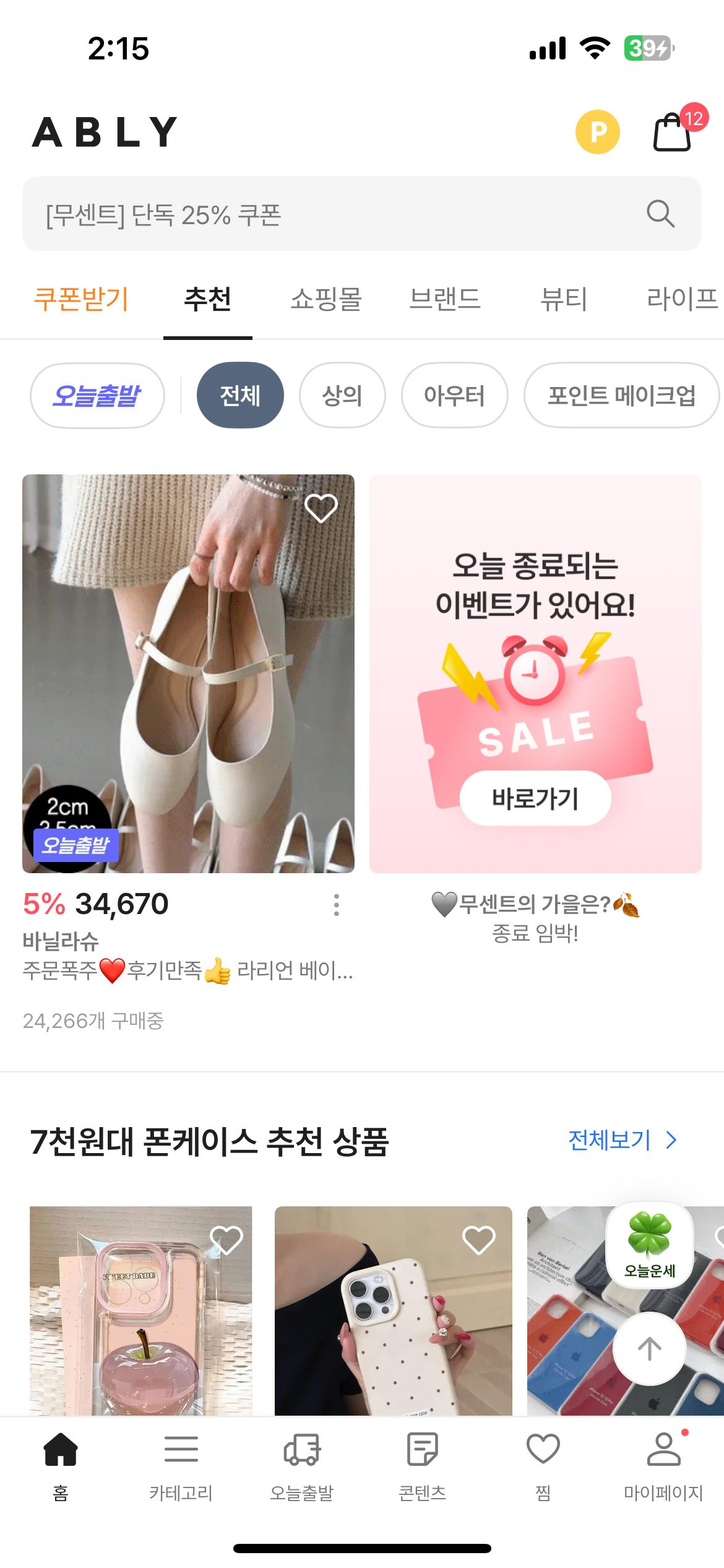button: (367, 477, 707, 945), (35, 361, 163, 427), (402, 355, 505, 431), (192, 359, 285, 429), (623, 1428, 707, 1505), (301, 359, 384, 431), (386, 1426, 460, 1505), (262, 1431, 340, 1503), (149, 1431, 221, 1507), (27, 275, 136, 322), (563, 1121, 683, 1162), (31, 1428, 89, 1509), (650, 103, 714, 161), (516, 1435, 569, 1505), (177, 277, 233, 320), (408, 285, 483, 316), (536, 279, 594, 318), (289, 285, 365, 312), (650, 287, 718, 314), (324, 883, 353, 929), (677, 281, 685, 289)
input_field: (25, 175, 701, 252)
popup: (522, 355, 722, 431)
